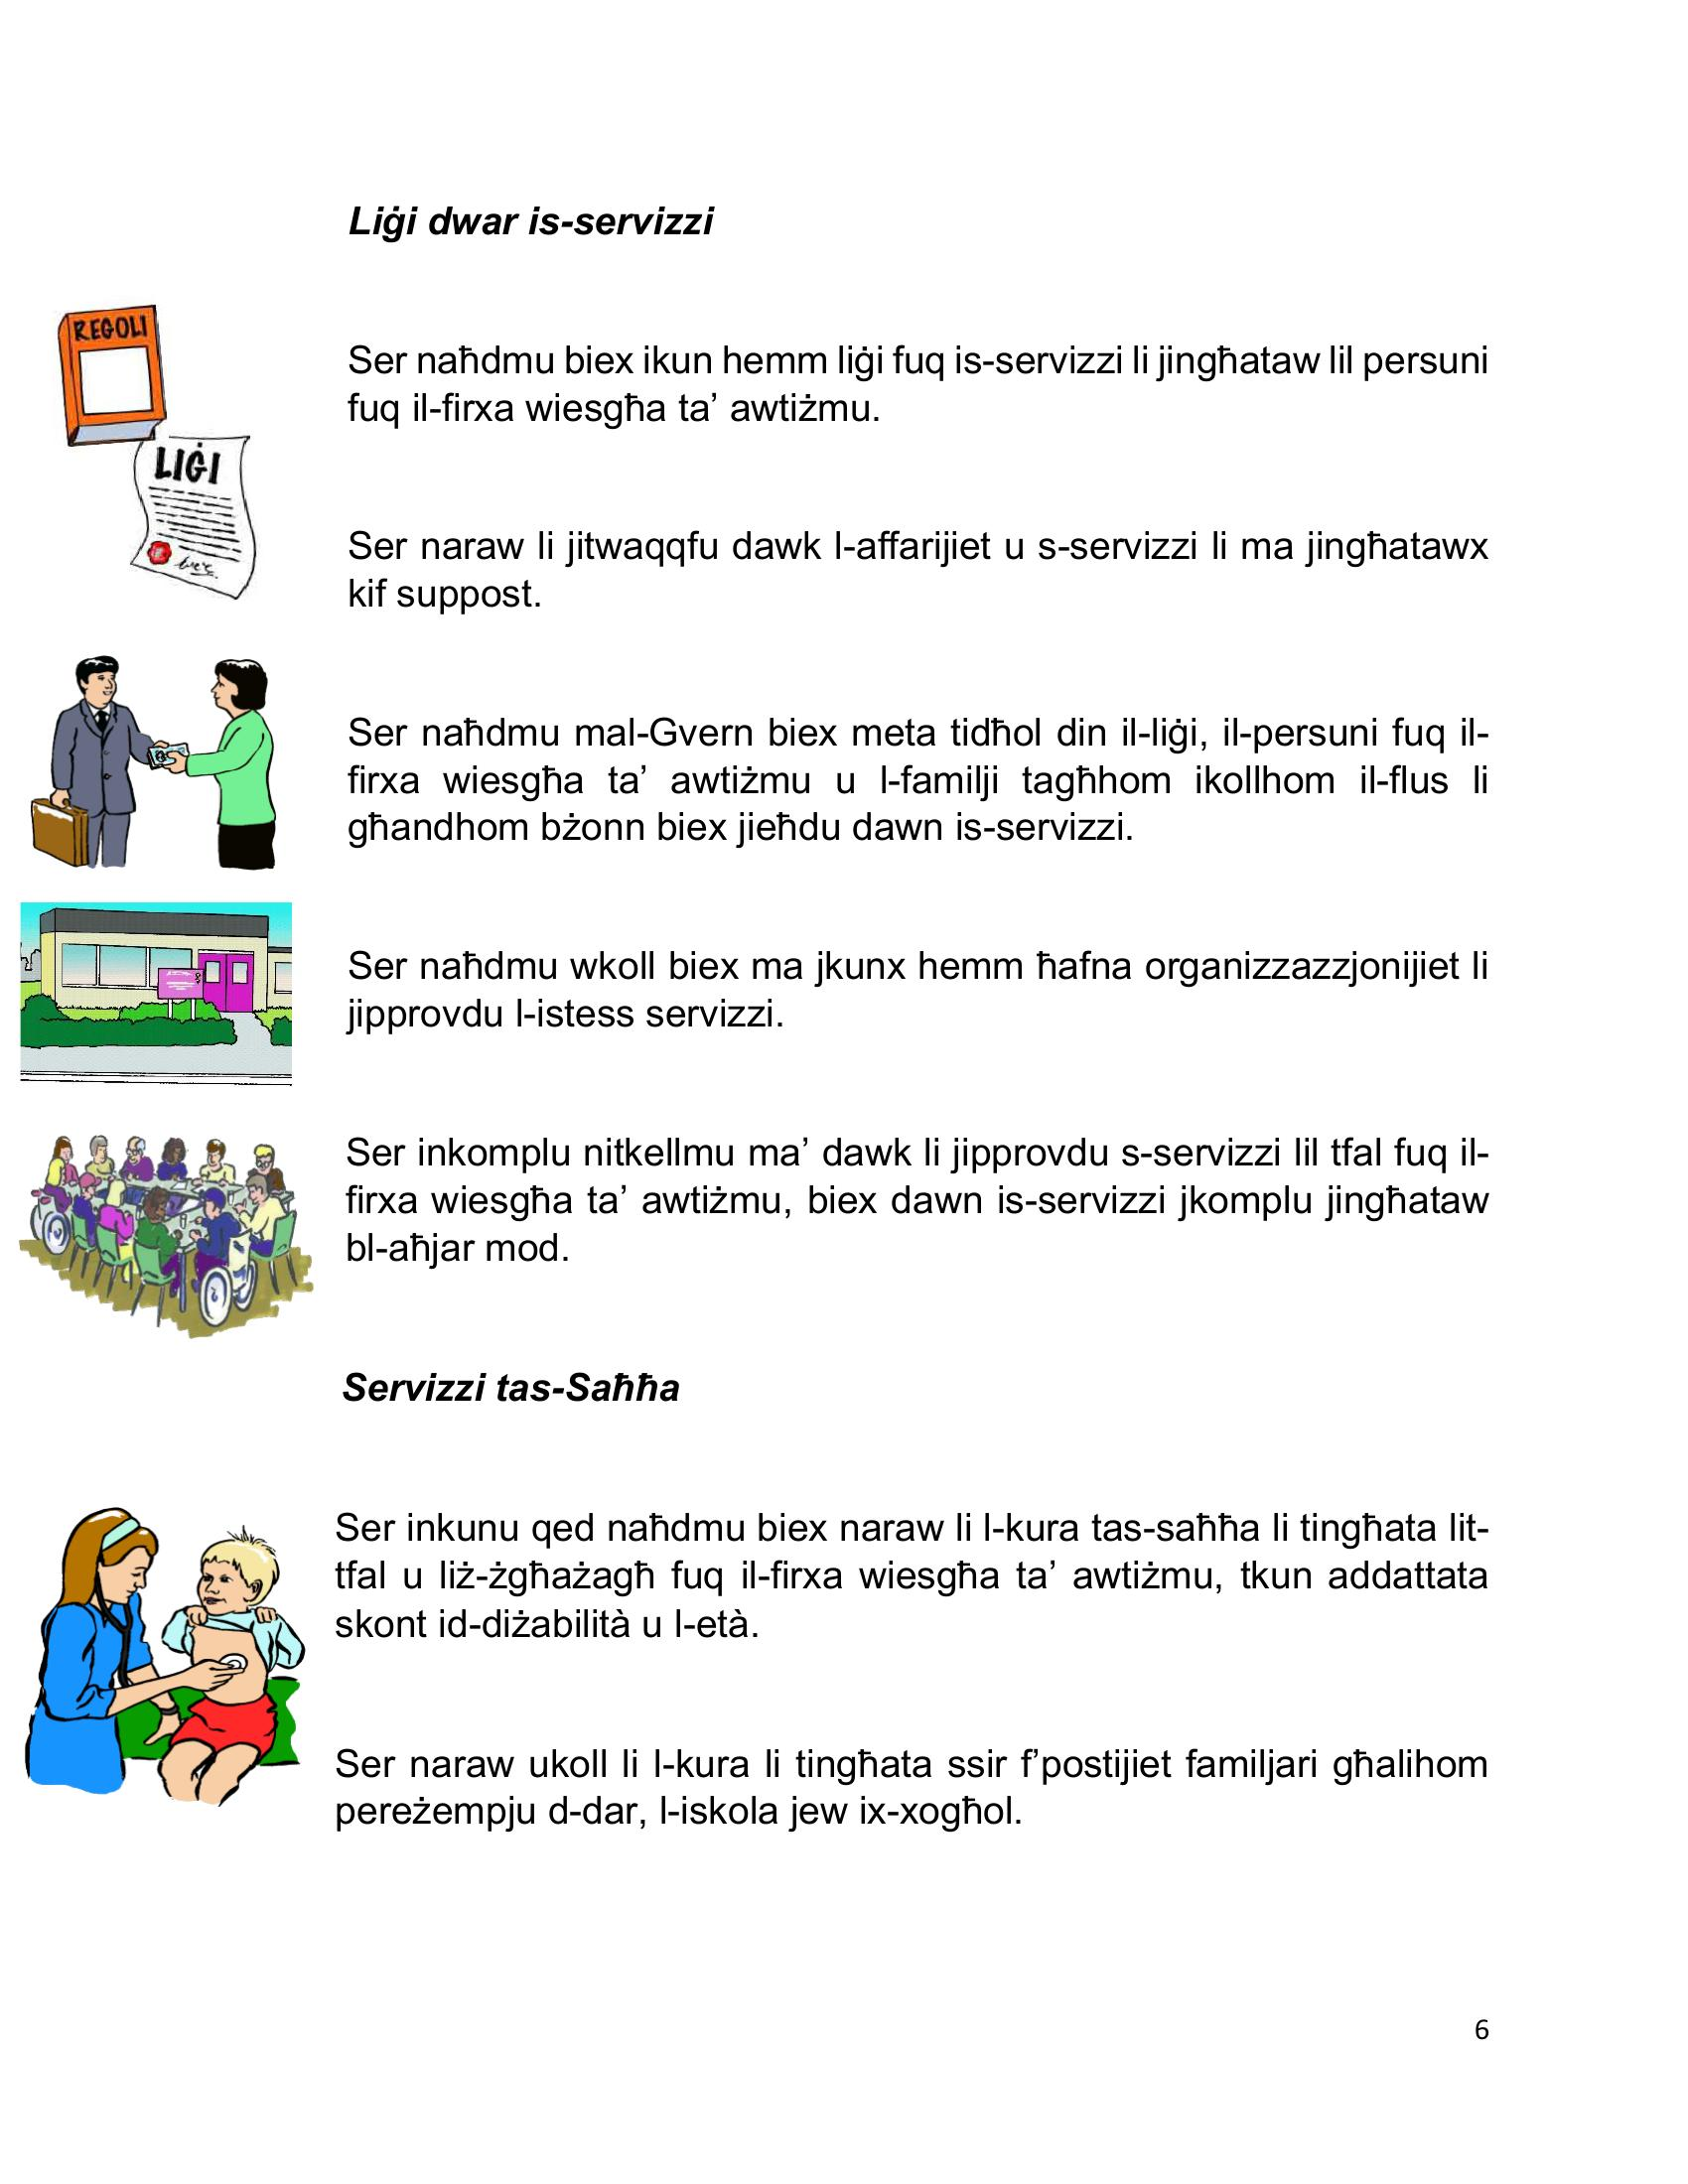text: (319, 179, 1521, 1865)
